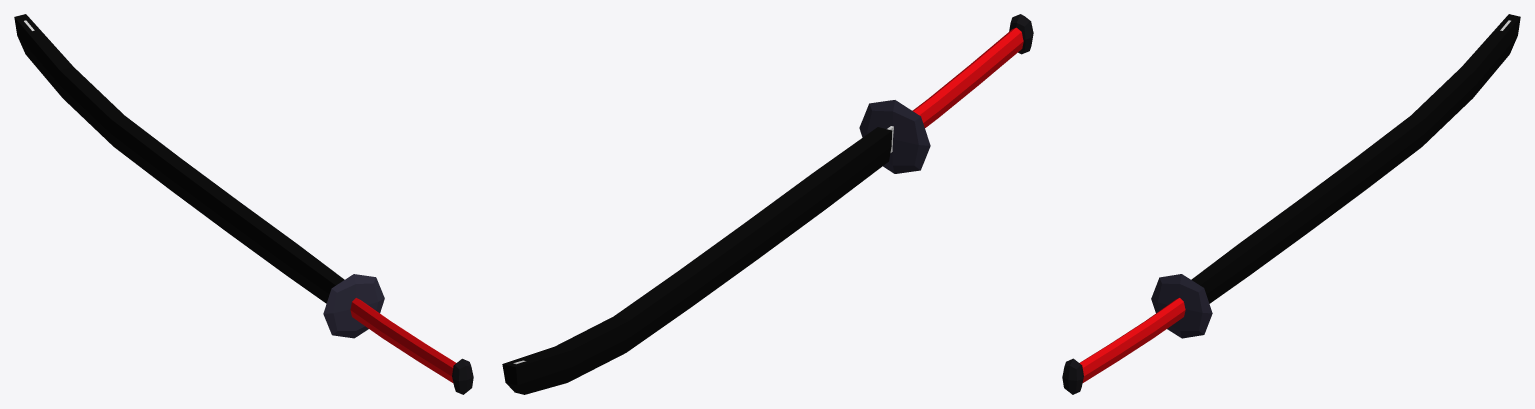
File: StartingKatana.glb
3 renders of one model, left to right at view 1: azimuth 30°, elevation 25°; view 2: azimuth 150°, elevation 25°; view 3: azimuth 330°, elevation 25°, orthographic. The views are drawn at different scales.
Visible parts, largest first — view 1: Sheathe, StartingKatana; view 2: Sheathe, StartingKatana; view 3: Sheathe, StartingKatana.
Part boxes in pixels (<box>): Sheathe: <box>14,14,344,303</box>; StartingKatana: <box>24,20,473,394</box>; Sheathe: <box>502,127,892,394</box>; StartingKatana: <box>513,14,1033,364</box>; Sheathe: <box>1191,14,1520,303</box>; StartingKatana: <box>1062,20,1510,394</box>.
Bounding box in the file's own units: 0.0745 × 0.0913 × 0.9363.
